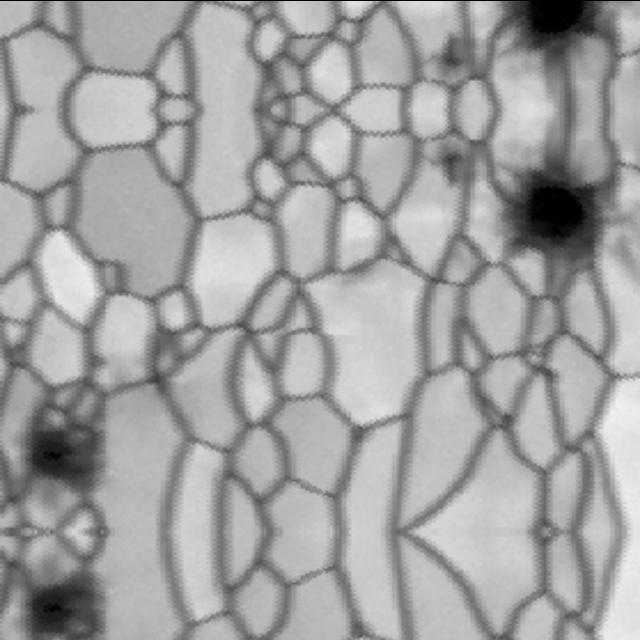good_void: (495, 162, 628, 270), (17, 416, 123, 524), (17, 540, 123, 640), (495, 0, 626, 58), (418, 28, 474, 88), (418, 132, 474, 191)
